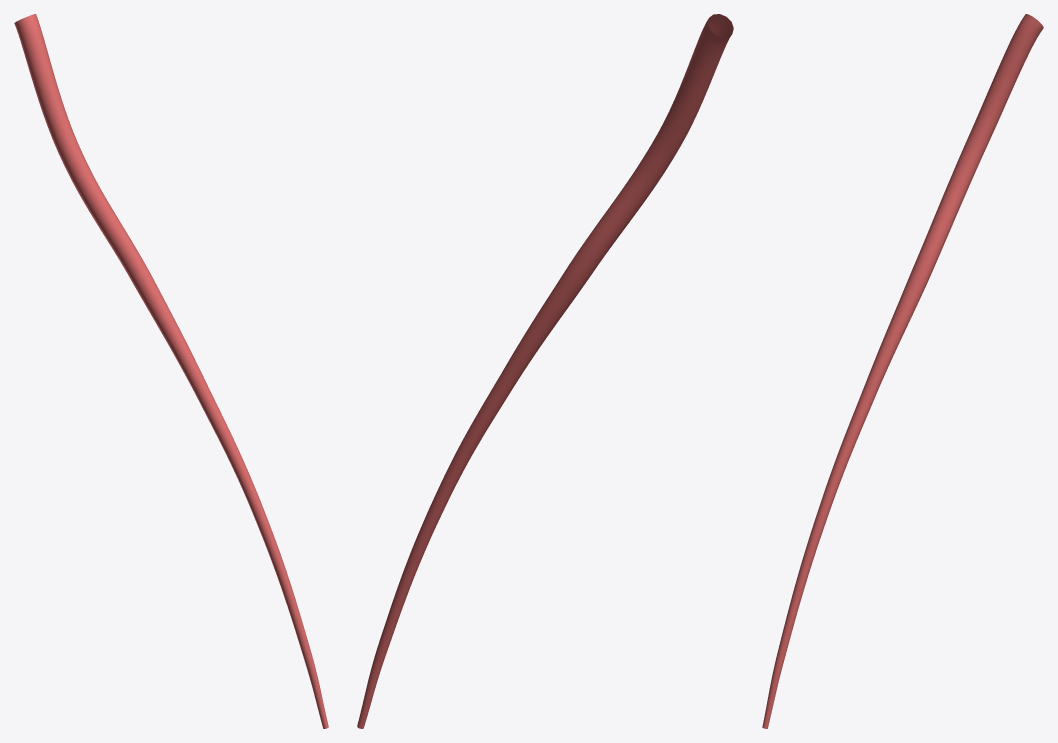
The model's file is Pectoral_branches_of_thoraco-acromial_artery.l_BezierCurve.154.glb.
3 renders of one model, left to right at view 1: azimuth 30°, elevation 25°; view 2: azimuth 210°, elevation 25°; view 3: azimuth 270°, elevation 25°, orthographic. The views are drawn at different scales.
Visible parts, largest first — view 1: Pectoral_branches_of_thoraco-acromial_artery.l_BezierCurve.1; view 2: Pectoral_branches_of_thoraco-acromial_artery.l_BezierCurve.1; view 3: Pectoral_branches_of_thoraco-acromial_artery.l_BezierCurve.1.
Boxes of the visible parts, x1,y1,x2,y2 form: Pectoral_branches_of_thoraco-acromial_artery.l_BezierCurve.1: (14,14,328,728); Pectoral_branches_of_thoraco-acromial_artery.l_BezierCurve.1: (357,14,733,728); Pectoral_branches_of_thoraco-acromial_artery.l_BezierCurve.1: (762,14,1043,728).
Bounding box in the file's own units: 0.034 × 0.1218 × 0.0488.
